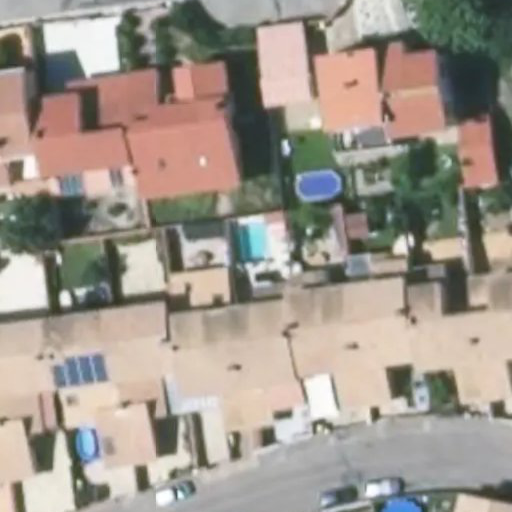pool: (241, 224, 270, 258)
